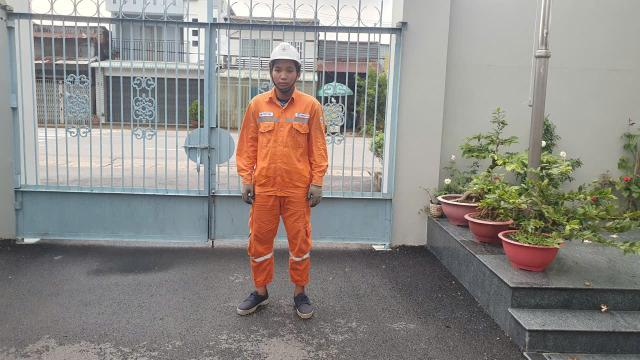gloves: (304, 178, 328, 211), (234, 182, 264, 207)
helmet: (264, 40, 312, 68)
shoes: (232, 274, 270, 324), (290, 287, 325, 329)
